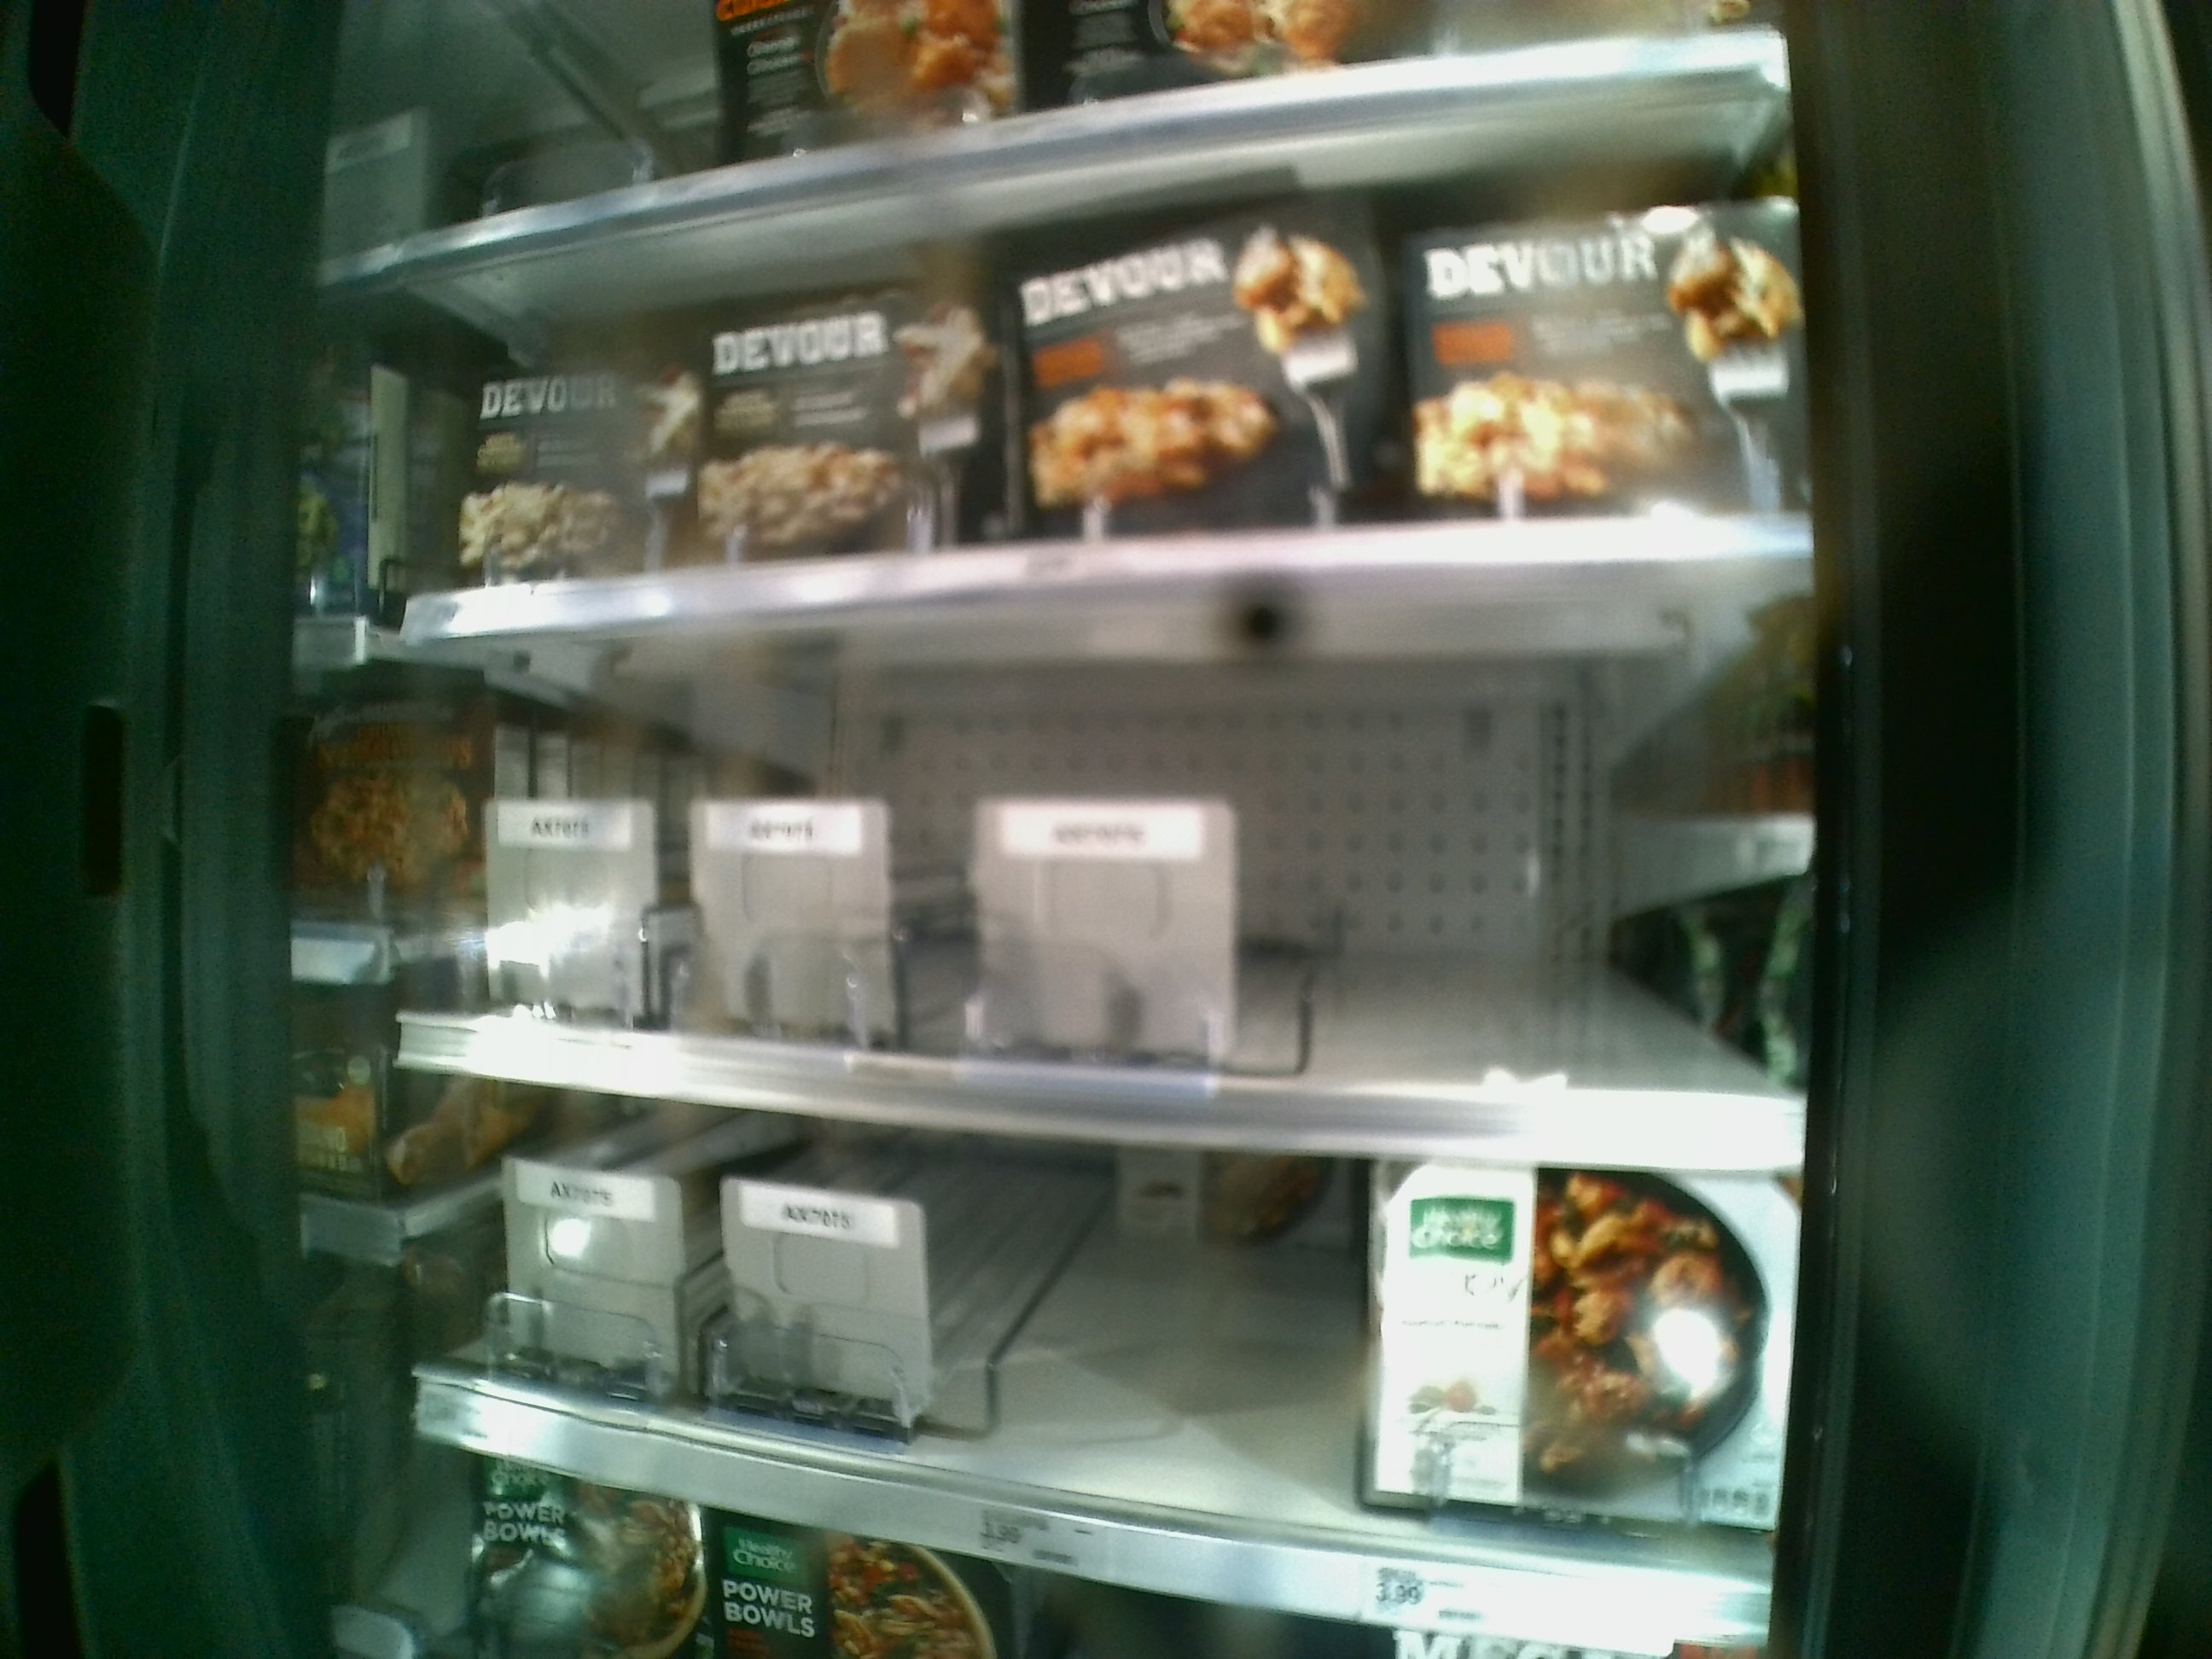shelf: (376, 540, 1811, 1173)
